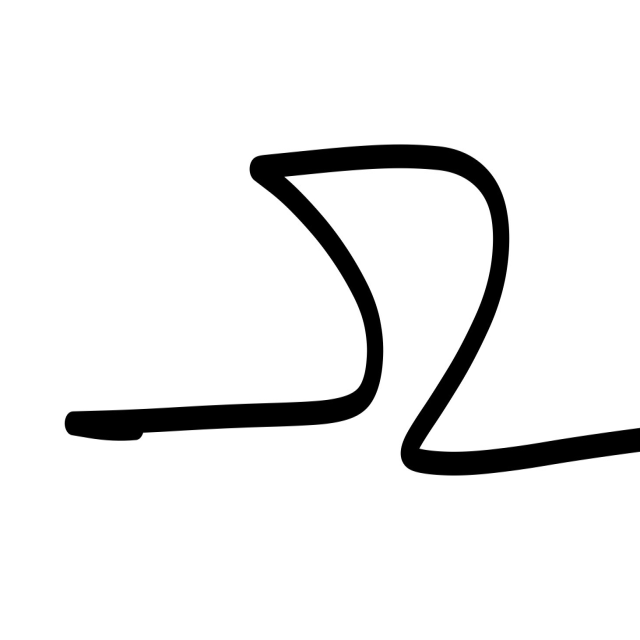ohms: (22, 62, 630, 581)
